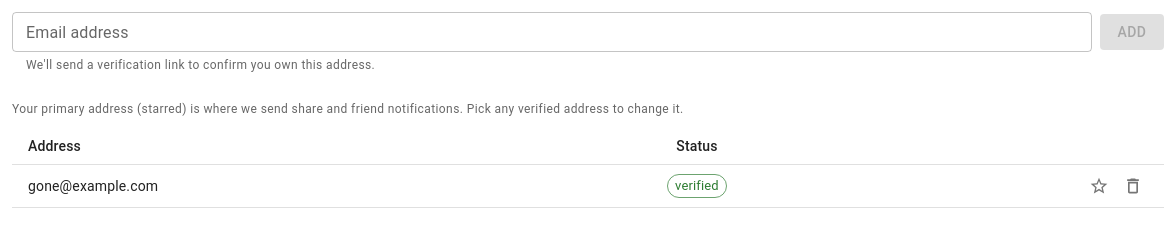
Test: EmailsSection › deletes an email after confirm()
Check: the text "gone@example.com" is shown, box [12,164,546,207]
What coordinates should you click on to do the following:
click the button named "delete gone@example.com"
I would click on:
 (1133, 186)
Its box is [1118,171,1148,201].
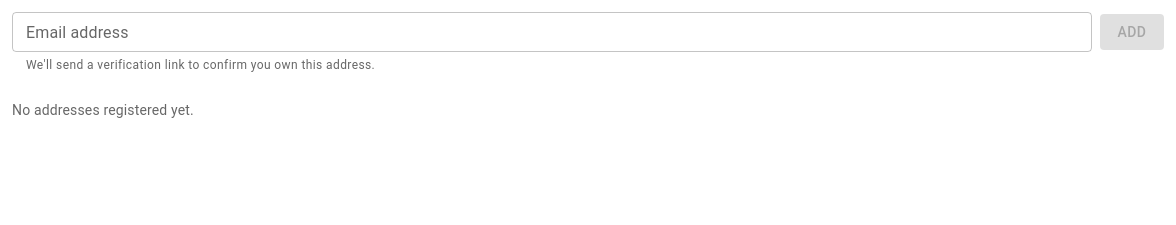
Check: the text "gone@example.com" is gone
